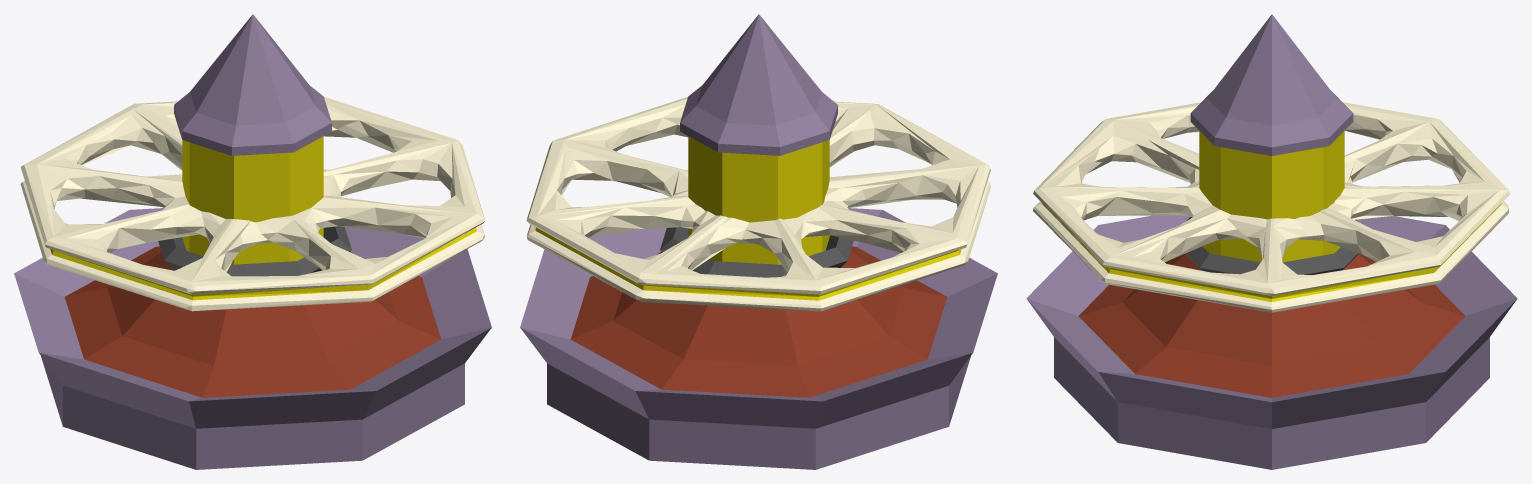
File: Torre_iluminacion.fbx
3 renders of one model, left to right at view 1: azimuth 30°, elevation 25°; view 2: azimuth 150°, elevation 25°; view 3: azimuth 270°, elevation 25°, orthographic.
Visible parts, largest first — view 1: Cilindro.003; view 2: Cilindro.003; view 3: Cilindro.003.
Boxes of the visible parts, bbox=[...] form: Cilindro.003: bbox=[14, 14, 491, 469]; Cilindro.003: bbox=[520, 14, 997, 469]; Cilindro.003: bbox=[1026, 14, 1517, 469].
Bounding box in the file's own units: 105 × 105 × 86.08.
